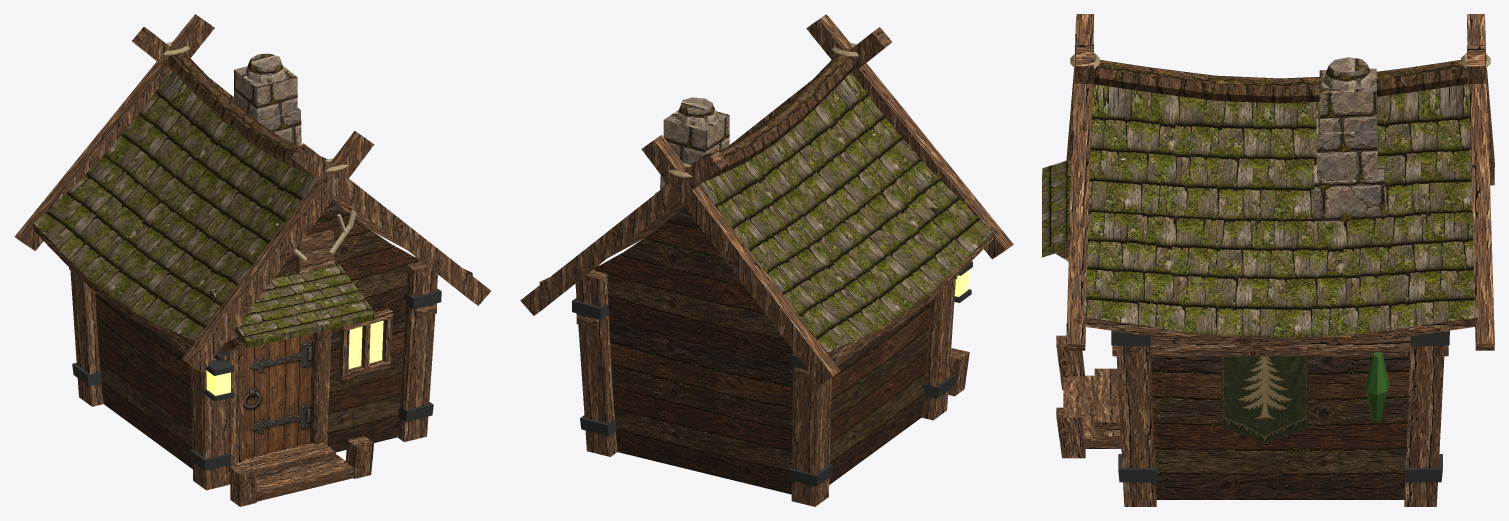
File: house-forest-trail-01.glb
The picture shows the model from 3 angles, left to right: view 1: azimuth 30°, elevation 25°; view 2: azimuth 150°, elevation 25°; view 3: azimuth 270°, elevation 25°; orthographic projection. The views are drawn at different scales.
Visible parts, largest first — view 1: roof_-1, gable_-1, side_-1, door, porch_roof, barge_-1_-1, barge_1_-1, barge_-1_1, post_1_-1, ridge, chimney, post_-1_-1 (+17 smaller); view 2: roof_-1, gable_1, side_-1, barge_1_-1, barge_-1_-1, barge_1_1, post_1_1, post_-1_1, ridge, post_-1_-1, chimney, roof_edge_-1 (+6 smaller); view 3: roof_1, side_1, chimney, ridge, banner, barge_-1_1, barge_1_1, post_1_-1, post_1_1, roof_edge_1, plate_1, porch_roof (+10 smaller).
Boxes of the visible parts, box(x1,y1,x2,y2) form: roof_-1: box(33, 70, 317, 340); gable_-1: box(275, 200, 419, 452); side_-1: box(95, 292, 192, 468); door: box(243, 333, 313, 458); porch_roof: box(210, 263, 375, 347); barge_-1_-1: box(182, 131, 374, 372); barge_1_-1: box(14, 14, 214, 250); barge_-1_1: box(291, 143, 490, 305); post_1_-1: box(397, 257, 437, 441); ridge: box(167, 47, 333, 176); chimney: box(234, 65, 301, 146); post_-1_-1: box(190, 339, 229, 490); roof_-1: box(700, 72, 993, 351); gable_1: box(594, 207, 792, 494); side_-1: box(829, 301, 930, 484); barge_1_-1: box(641, 135, 840, 385); barge_-1_-1: box(806, 14, 1013, 259); barge_1_1: box(520, 148, 727, 315); post_1_1: box(575, 265, 617, 456); post_-1_1: box(791, 351, 831, 506); ridge: box(683, 48, 855, 181); post_-1_-1: box(921, 278, 955, 420); chimney: box(653, 110, 729, 231); roof_edge_-1: box(828, 231, 994, 358); roof_1: box(1083, 84, 1477, 337); side_1: box(1151, 356, 1409, 499); chimney: box(1314, 68, 1385, 222); ridge: box(1093, 60, 1468, 103); banner: box(1221, 356, 1308, 442); barge_-1_1: box(1066, 14, 1093, 350); barge_1_1: box(1467, 14, 1494, 350); post_1_-1: box(1116, 345, 1156, 506); post_1_1: box(1404, 345, 1444, 506); roof_edge_1: box(1083, 317, 1477, 347); plate_1: box(1112, 336, 1448, 356); porch_roof: box(1042, 160, 1071, 257).
Bounding box in the file's own units: 2.91 × 3.08 × 3.07.
13 materials, 8 textured.
